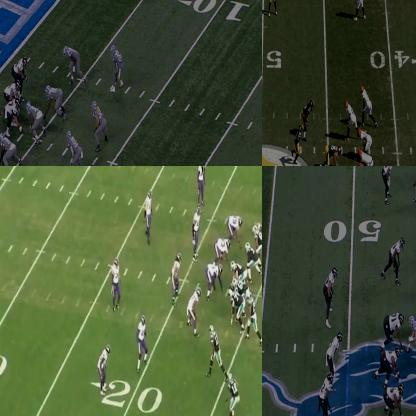CENTER: (8, 95, 23, 125), (408, 315, 415, 350), (233, 260, 244, 280)
DB: (109, 42, 126, 93), (325, 266, 340, 322), (111, 258, 123, 312), (191, 166, 208, 199), (137, 316, 148, 367), (99, 345, 110, 393), (381, 166, 397, 197), (146, 190, 153, 244), (270, 0, 279, 13)
LB: (63, 45, 86, 84), (387, 236, 405, 282), (92, 98, 107, 151), (66, 127, 85, 165), (327, 328, 343, 369), (321, 370, 335, 415), (168, 252, 180, 304), (292, 128, 302, 163), (302, 100, 312, 132), (193, 208, 200, 252)
SKILL: (246, 297, 261, 344), (228, 375, 241, 415), (210, 326, 221, 372), (364, 86, 376, 122), (347, 101, 358, 132), (360, 127, 373, 150), (355, 0, 364, 19)
